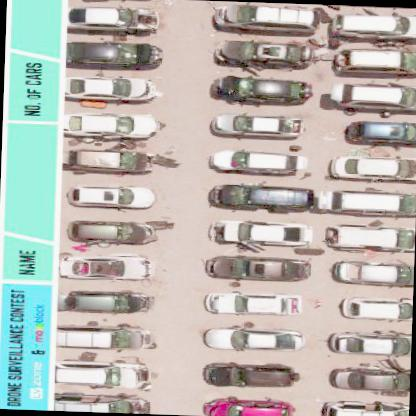car: (212, 74, 315, 110), (208, 37, 329, 66), (62, 145, 178, 175), (211, 181, 314, 213), (314, 186, 415, 218), (66, 216, 170, 247), (204, 255, 312, 283), (209, 218, 312, 246), (205, 322, 304, 351), (216, 2, 322, 29), (331, 44, 415, 78), (204, 360, 298, 390), (57, 288, 156, 315), (54, 386, 150, 413), (66, 38, 161, 65), (204, 291, 304, 316), (328, 362, 410, 392), (57, 324, 154, 349), (326, 222, 414, 249), (210, 111, 304, 136), (67, 4, 160, 29), (212, 148, 308, 172), (58, 359, 146, 385), (328, 82, 415, 108), (66, 112, 160, 136), (330, 154, 415, 180), (66, 75, 156, 99), (62, 255, 154, 278), (332, 260, 413, 286), (331, 11, 415, 36), (328, 329, 411, 354), (338, 294, 412, 322), (68, 186, 157, 209), (345, 118, 415, 147), (205, 393, 297, 415), (320, 396, 409, 415)
